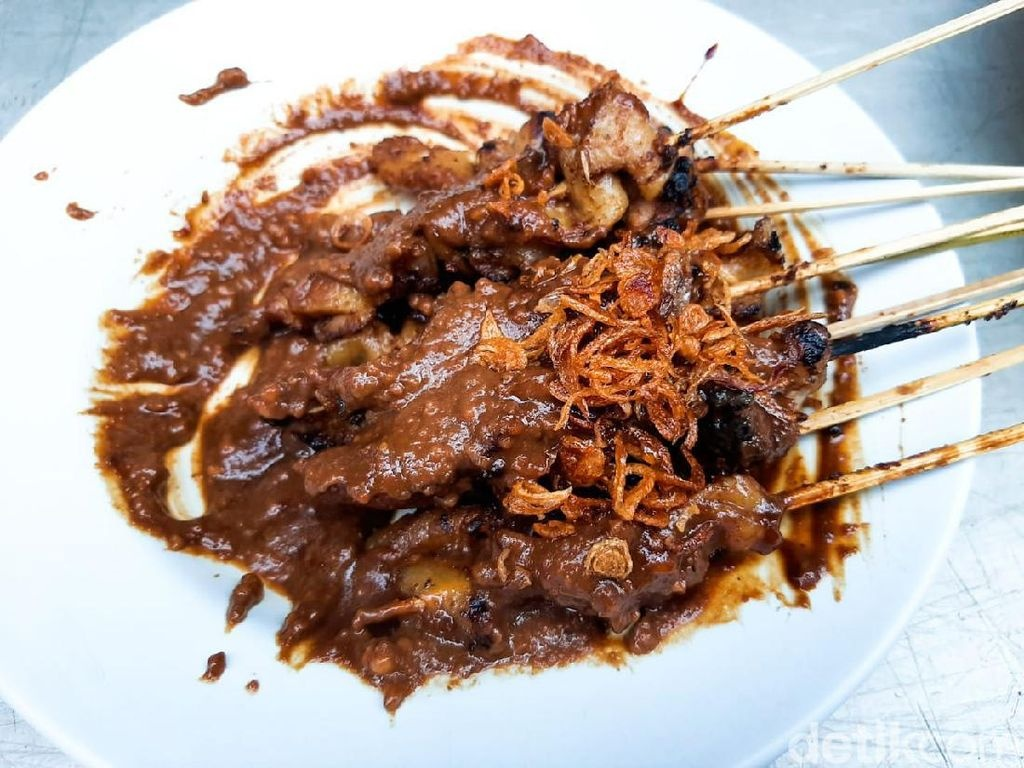sate_madura: (256, 49, 1024, 623)
